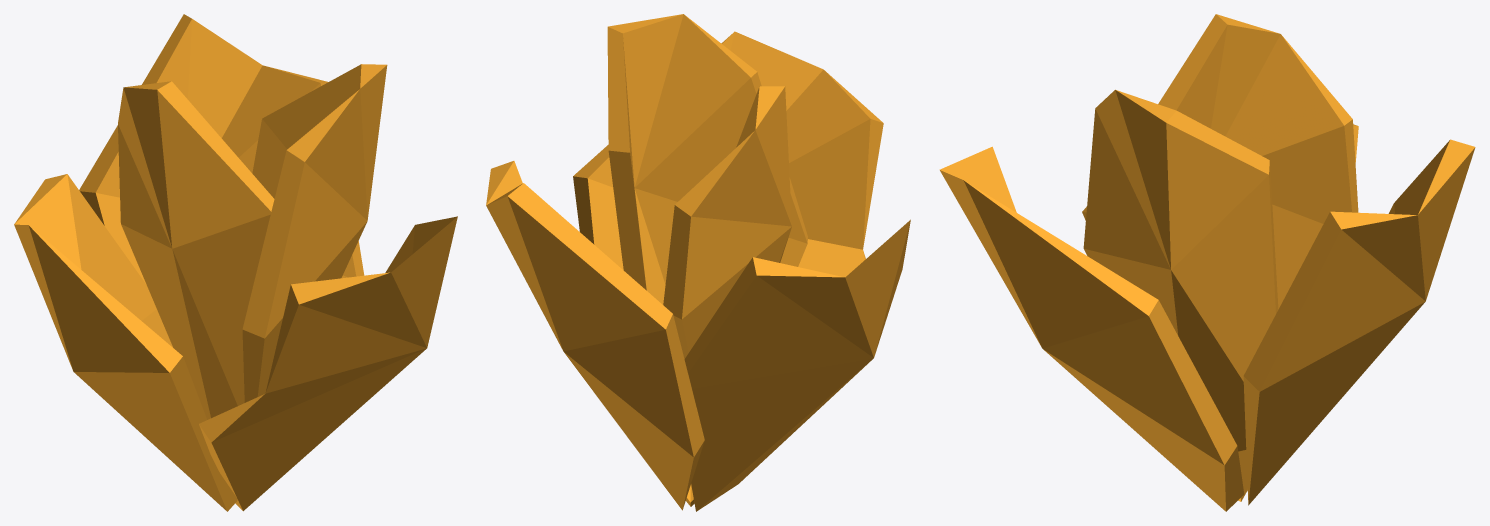
The model's file is SM_Salad_Young_A.fbx.
The picture shows the model from 3 angles, left to right: view 1: azimuth 30°, elevation 25°; view 2: azimuth 150°, elevation 25°; view 3: azimuth 270°, elevation 25°; orthographic projection. The views are drawn at different scales.
Visible parts, largest first — view 1: salad-young-a; view 2: salad-young-a; view 3: salad-young-a.
Part boxes in pixels (x1,y1,x2,y2): salad-young-a: [14, 14, 457, 511]; salad-young-a: [486, 14, 910, 511]; salad-young-a: [939, 14, 1475, 511].
Size of the model in its own units: 0.227 by 0.2569 by 0.2755.
